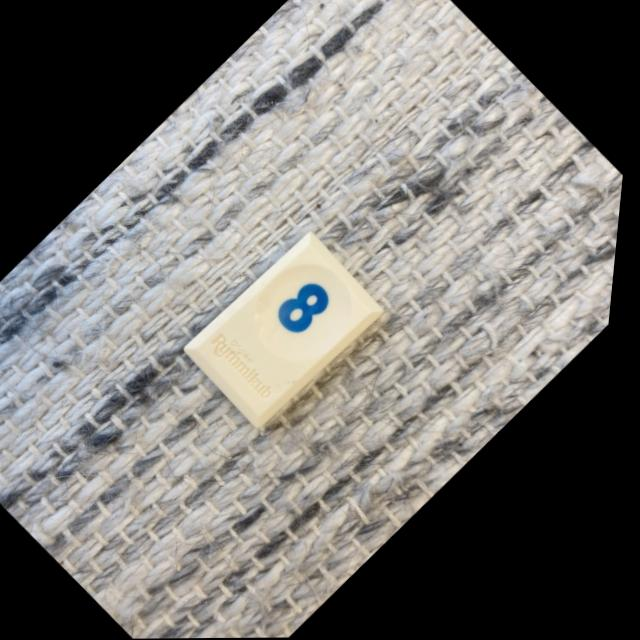blue_8: (191, 233, 388, 428)
